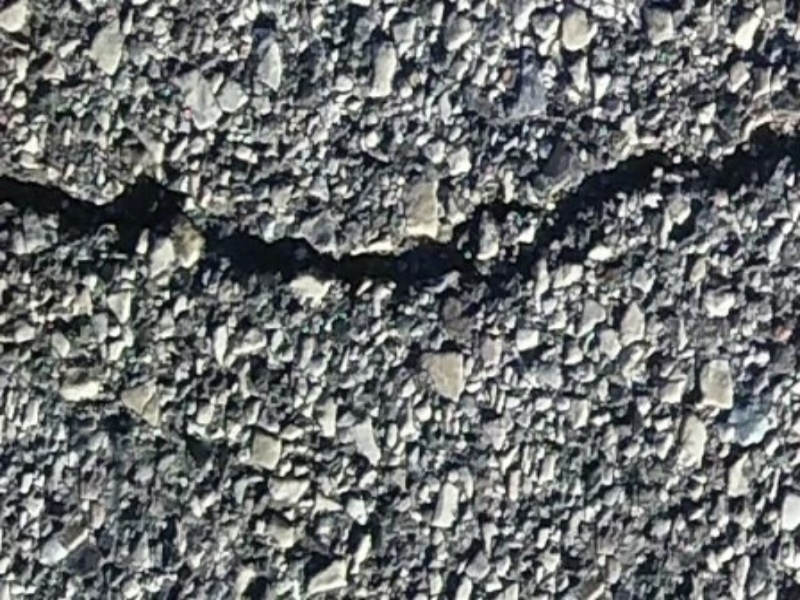crack: (5, 100, 793, 270)
